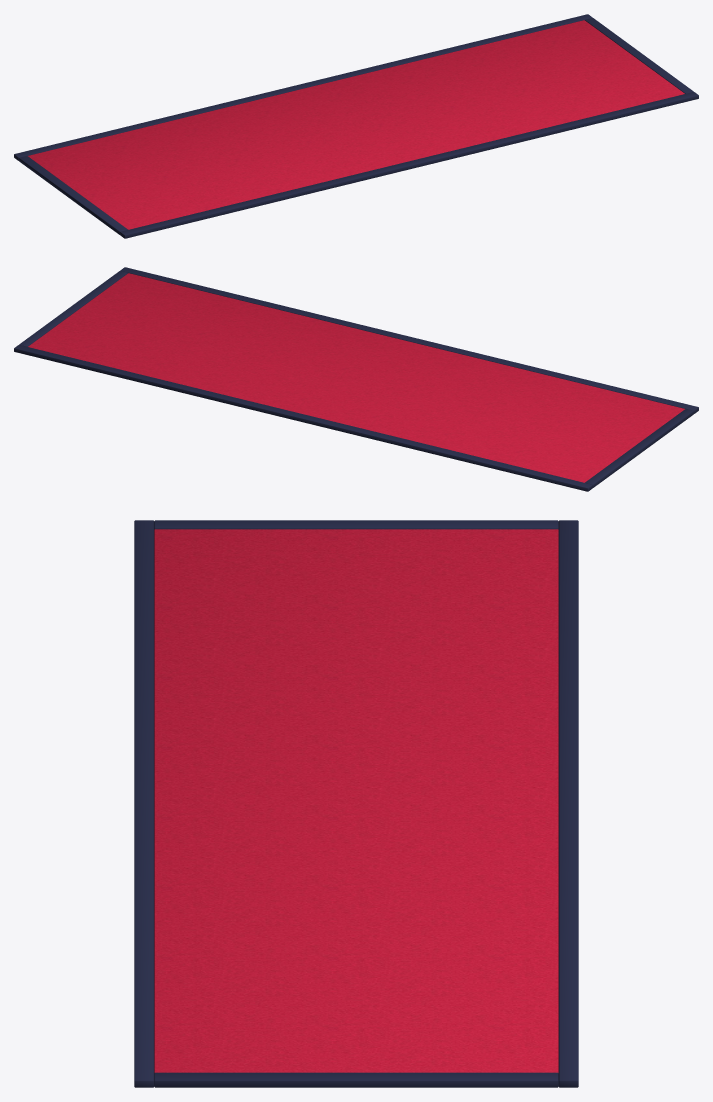
The model's file is rec1BjzAjGJ1mQ4Fr.glb.
3 views of the same model, one above another, from view 1: azimuth 30°, elevation 25°; view 2: azimuth 150°, elevation 25°; view 3: azimuth 270°, elevation 25° (orthographic). The views are drawn at different scales.
Parts seen in each view (by area): view 1: Tapis_Passage_Corps; view 2: Tapis_Passage_Corps; view 3: Tapis_Passage_Corps.
Part boxes in pixels (left/top/right/bottom): Tapis_Passage_Corps: left=14, top=14, right=698, bottom=238; Tapis_Passage_Corps: left=14, top=267, right=698, bottom=491; Tapis_Passage_Corps: left=134, top=520, right=578, bottom=1087.
Size of the model in its own units: 2 by 0.013 by 0.67.
2 materials, 1 textured.
